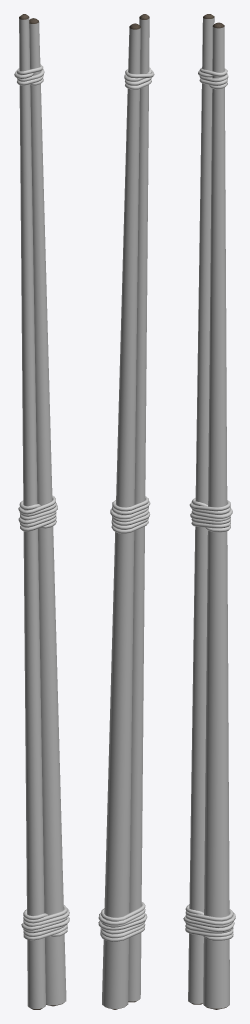
The model's file is SM_Wood_column_01.fbx.
3 renders of one model, left to right at view 1: azimuth 30°, elevation 25°; view 2: azimuth 210°, elevation 25°; view 3: azimuth 330°, elevation 25°, orthographic.
Parts seen in each view (by area): view 1: SM_Wood_column_01_LOD0; view 2: SM_Wood_column_01_LOD0; view 3: SM_Wood_column_01_LOD0.
Boxes of the visible parts, x1,y1,x2,y2 form: SM_Wood_column_01_LOD0: (14,14,69,1009); SM_Wood_column_01_LOD0: (98,14,154,1009); SM_Wood_column_01_LOD0: (183,14,235,1009).
Size of the model in its own units: 22.37 by 19.01 by 453.
